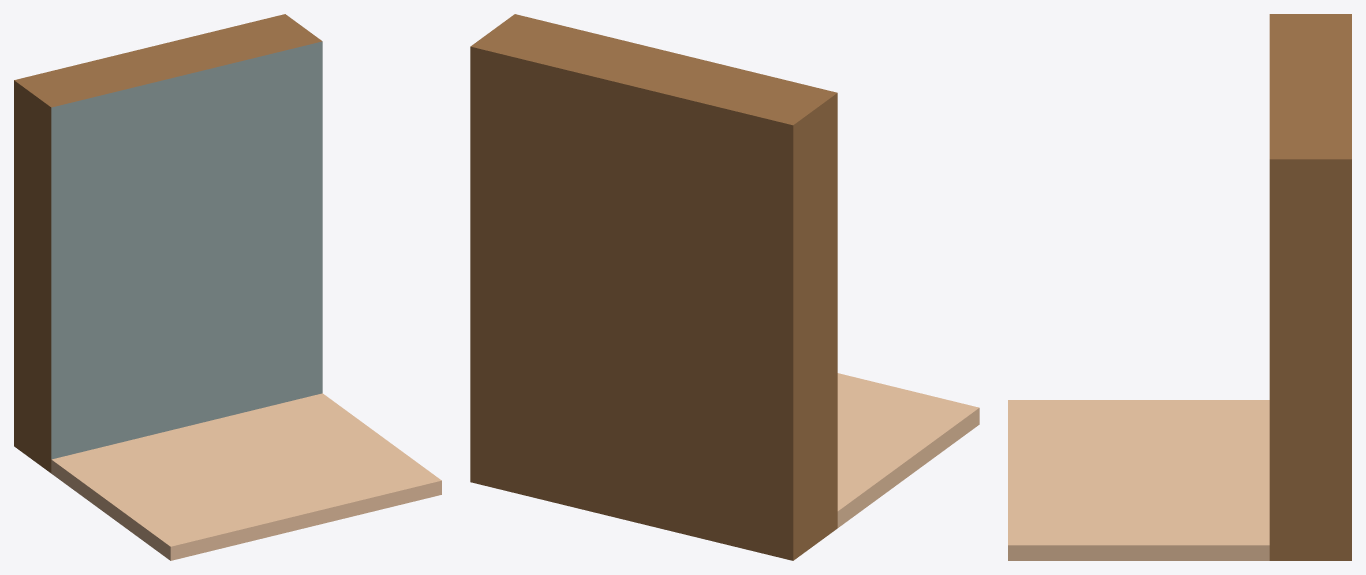
File: wallExterior.fbx
3 views of the same model, side by side, from view 1: azimuth 30°, elevation 25°; view 2: azimuth 150°, elevation 25°; view 3: azimuth 270°, elevation 25° (orthographic). The views are drawn at different scales.
Visible parts, largest first — view 1: wall.001; view 2: wall.001; view 3: wall.001.
Boxes of the visible parts, left/top/right/bottom form: wall.001: left=14, top=14, right=441, bottom=560; wall.001: left=470, top=14, right=979, bottom=560; wall.001: left=1008, top=14, right=1351, bottom=560.
Bounding box in the file's own units: 100 × 100 × 129.
